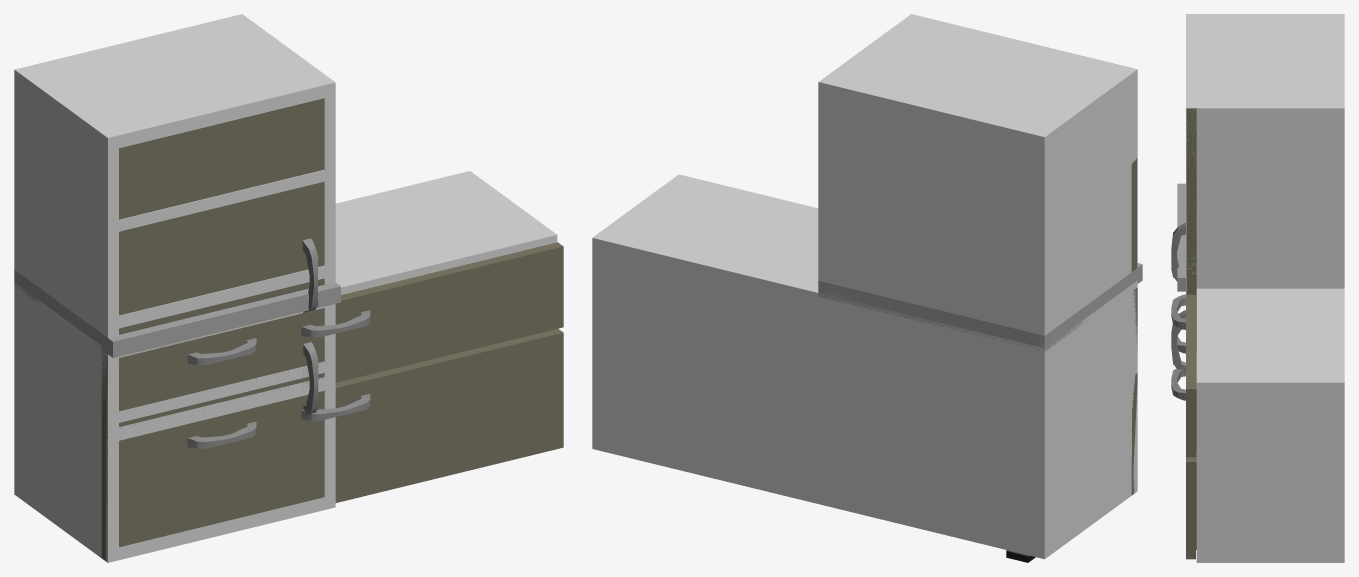
Rendered from Cabinet_Modular.fbx.
The picture shows the model from 3 angles, left to right: view 1: azimuth 30°, elevation 25°; view 2: azimuth 150°, elevation 25°; view 3: azimuth 270°, elevation 25°; orthographic projection. The views are drawn at different scales.
Visible parts, largest first — view 1: Shelves_Tall, Drawers_Wide_Bottom, Cabinet_Tall_Door, Drawers_Wide_Top, Drawers_Wide_Back, Shelves_Short, Cabinet_Tall_Back, Counter_Top, Drawers_Short_Bottom, Drawers_Short_Top, Cabinet_Small_Door; view 2: Shelves_Tall, Drawers_Wide_Back, Shelves_Short, Drawers_Short_Back, Cabinet_Tall_Back, Cabinet_Small_Back, Counter_Top, Cabinet_Tall_Door; view 3: Shelves_Tall, Drawers_Wide_Back, Cabinet_Tall_Back, Cabinet_Tall_Door, Drawers_Wide_Top, Drawers_Wide_Bottom, Counter_Top, Cabinet_Small_Door.
Boxes of the visible parts, x1,y1,x2,y2 form: Shelves_Tall: [14, 14, 335, 562]; Drawers_Wide_Bottom: [107, 328, 563, 547]; Cabinet_Tall_Door: [119, 98, 324, 334]; Drawers_Wide_Top: [104, 242, 563, 437]; Drawers_Wide_Back: [28, 171, 557, 557]; Shelves_Short: [14, 282, 335, 562]; Cabinet_Tall_Back: [14, 14, 320, 326]; Counter_Top: [14, 270, 340, 357]; Drawers_Short_Bottom: [119, 390, 324, 546]; Drawers_Short_Top: [119, 327, 323, 426]; Cabinet_Small_Door: [101, 342, 318, 561]; Shelves_Tall: [818, 14, 1137, 557]; Drawers_Wide_Back: [592, 174, 1131, 549]; Shelves_Short: [821, 280, 1137, 559]; Drawers_Short_Back: [818, 295, 1044, 546]; Cabinet_Tall_Back: [819, 18, 1131, 334]; Cabinet_Small_Back: [819, 310, 1056, 547]; Counter_Top: [818, 263, 1142, 351]; Cabinet_Tall_Door: [1131, 158, 1137, 271]; Shelves_Tall: [1186, 14, 1344, 351]; Drawers_Wide_Back: [1196, 288, 1344, 562]; Cabinet_Tall_Back: [1196, 14, 1344, 288]; Cabinet_Tall_Door: [1171, 108, 1196, 453]; Drawers_Wide_Top: [1171, 294, 1196, 457]; Drawers_Wide_Bottom: [1171, 368, 1196, 559]; Counter_Top: [1177, 183, 1185, 291]; Cabinet_Small_Door: [1171, 310, 1185, 373].
Size of the model in its own units: 160 by 153 by 62.21.
